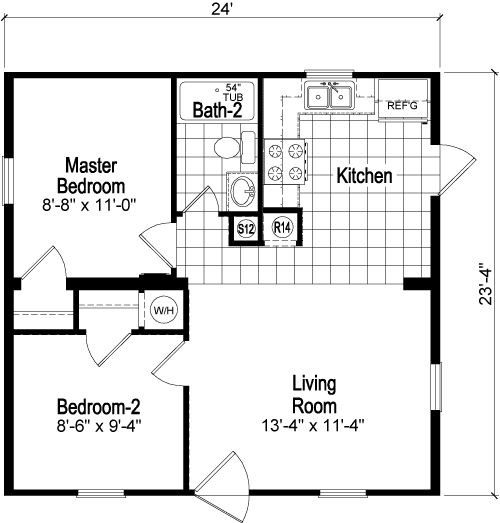door: (197, 448, 255, 523), (422, 146, 476, 194), (17, 241, 71, 288), (137, 215, 181, 272), (79, 329, 133, 370), (152, 340, 193, 388), (180, 181, 224, 215)
room: (182, 274, 445, 498), (257, 69, 440, 297), (3, 70, 192, 290), (7, 274, 194, 496), (168, 67, 267, 222)
wall: (1, 203, 18, 494), (4, 68, 305, 79), (427, 198, 447, 361), (252, 81, 269, 243), (66, 273, 191, 292), (168, 77, 183, 226), (426, 405, 446, 492), (1, 65, 17, 156), (353, 67, 442, 81), (180, 385, 191, 497), (180, 288, 196, 346), (248, 486, 322, 498), (10, 326, 90, 337), (125, 485, 183, 500), (429, 82, 442, 146), (2, 488, 76, 499), (369, 485, 439, 495), (131, 326, 186, 338), (400, 275, 431, 292), (264, 201, 300, 215), (69, 289, 81, 330), (224, 204, 254, 217), (296, 208, 306, 245), (229, 217, 239, 248)
window: (306, 61, 355, 88), (76, 485, 125, 504), (319, 485, 372, 502), (426, 361, 442, 403), (4, 159, 17, 200)
